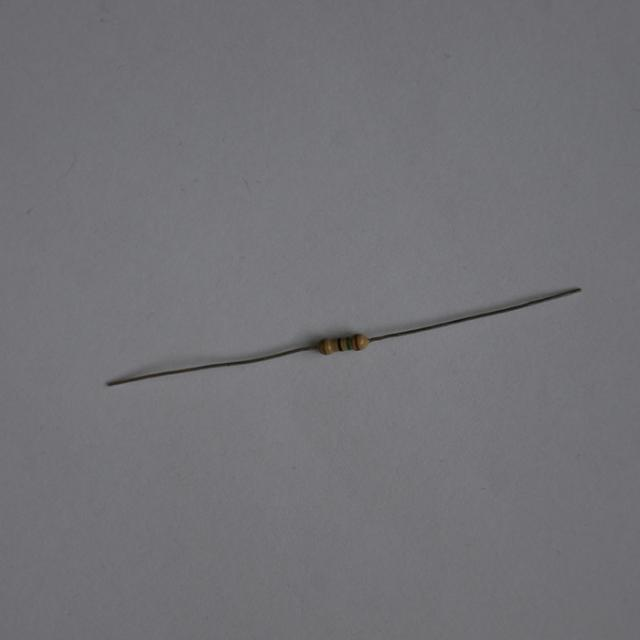black: (336, 337, 341, 350)
brown: (354, 335, 359, 348)
gold: (320, 339, 326, 354)
green: (346, 336, 351, 349)
resistor: (310, 327, 374, 362)
